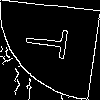T: (25, 24, 78, 61)
